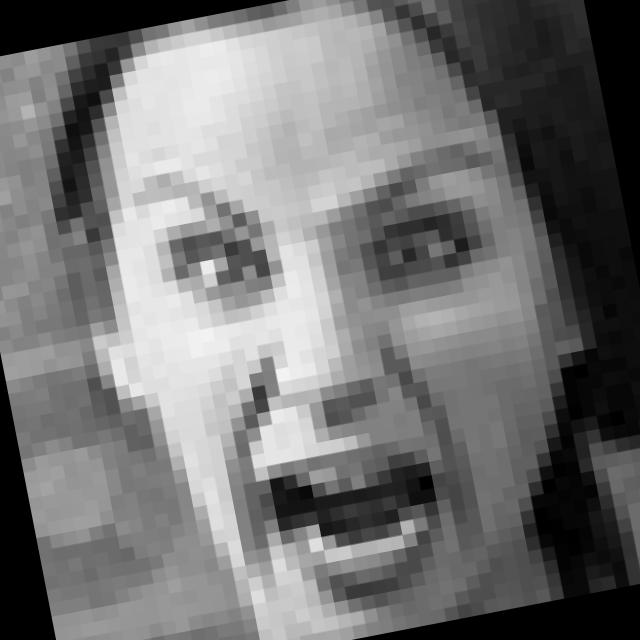fear: (132, 113, 575, 640)
